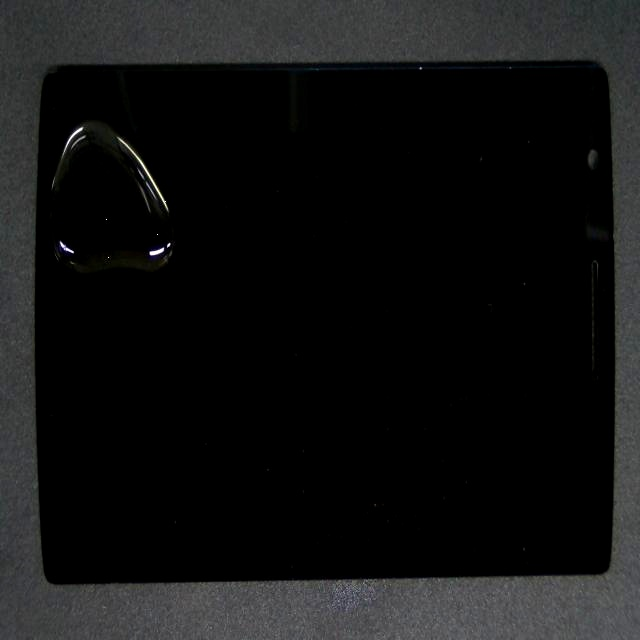oil: (32, 0, 82, 251)
